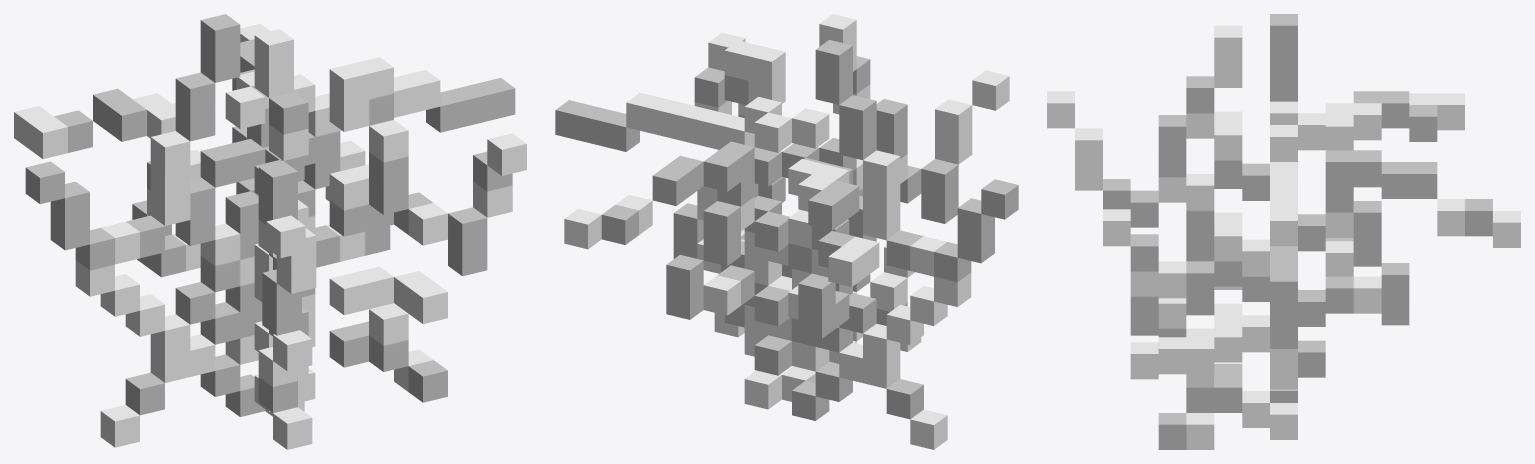
The model's file is Web_3.obj.
3 renders of one model, left to right at view 1: azimuth 30°, elevation 25°; view 2: azimuth 150°, elevation 25°; view 3: azimuth 270°, elevation 25°, orthographic. The views are drawn at different scales.
Visible parts, largest first — view 1: Web_3_Web_3.001; view 2: Web_3_Web_3.001; view 3: Web_3_Web_3.001.
Part boxes in pixels (x1,y1,x2,y2): Web_3_Web_3.001: (14, 14, 526, 449); Web_3_Web_3.001: (555, 14, 1018, 449); Web_3_Web_3.001: (1047, 14, 1520, 449).
Size of the model in its own units: 1.9 by 1.5 by 1.7.
Materials: 1 (1 with a texture image).
